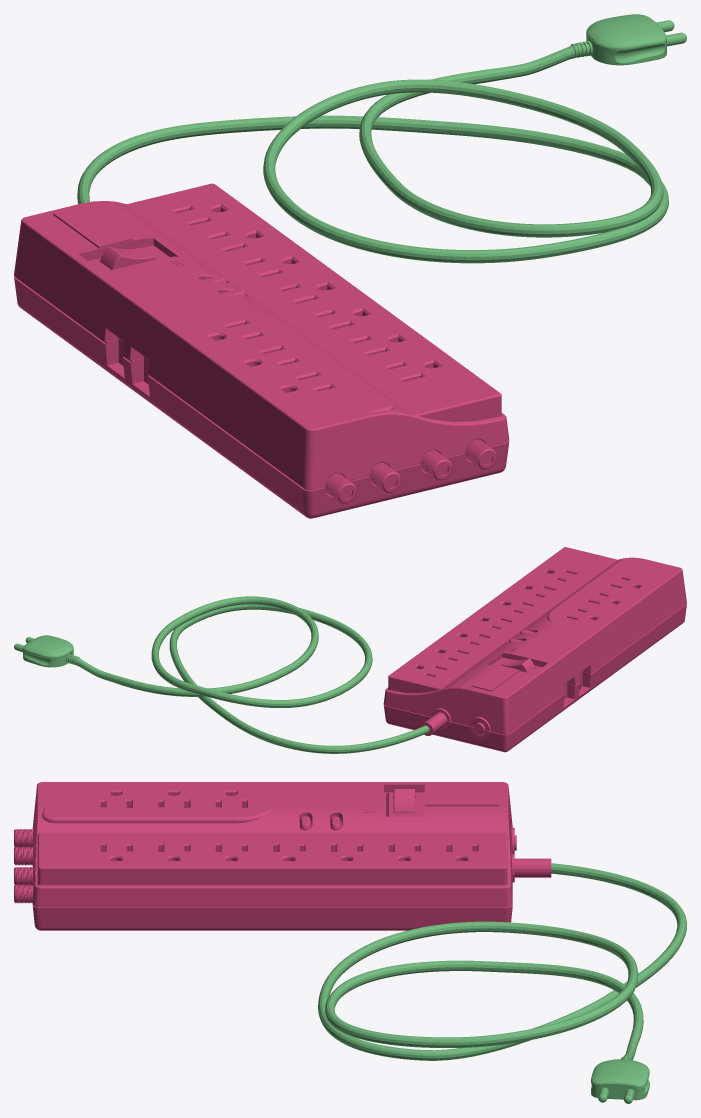
File: full_26_coarse.glb
3 views of the same model, one above another, from view 1: azimuth 30°, elevation 25°; view 2: azimuth 150°, elevation 25°; view 3: azimuth 270°, elevation 25° (orthographic). The views are drawn at different scales.
Parts seen in each view (by area): view 1: world; view 2: world; view 3: world.
Boxes of the visible parts, x1=… form: world: x1=14, y1=14, x2=686, y2=518; world: x1=14, y1=547, x2=686, y2=753; world: x1=14, y1=782, x2=686, y2=1103.
Bounding box in the file's own units: 0.7116 × 0.0892 × 0.6969.
